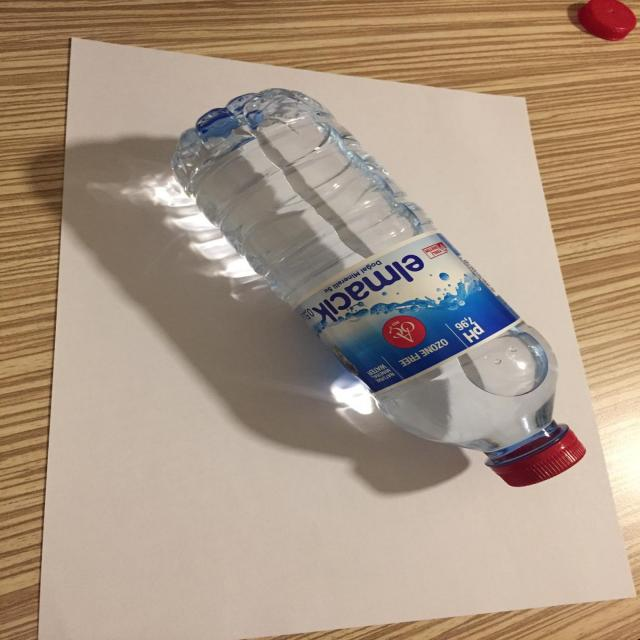bottle: (158, 90, 624, 502)
